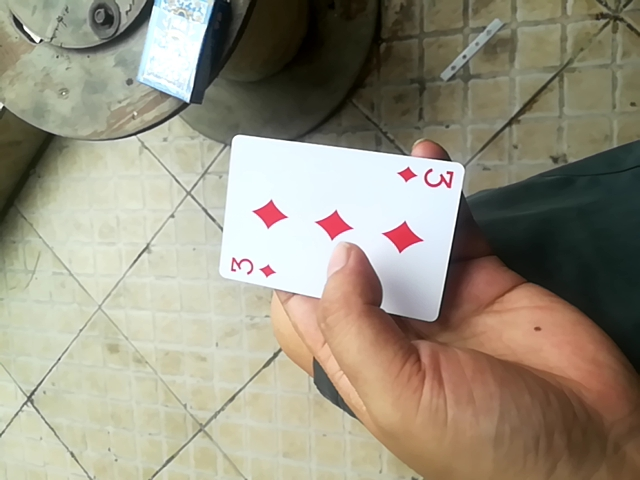fk 3: (214, 135, 467, 315)
